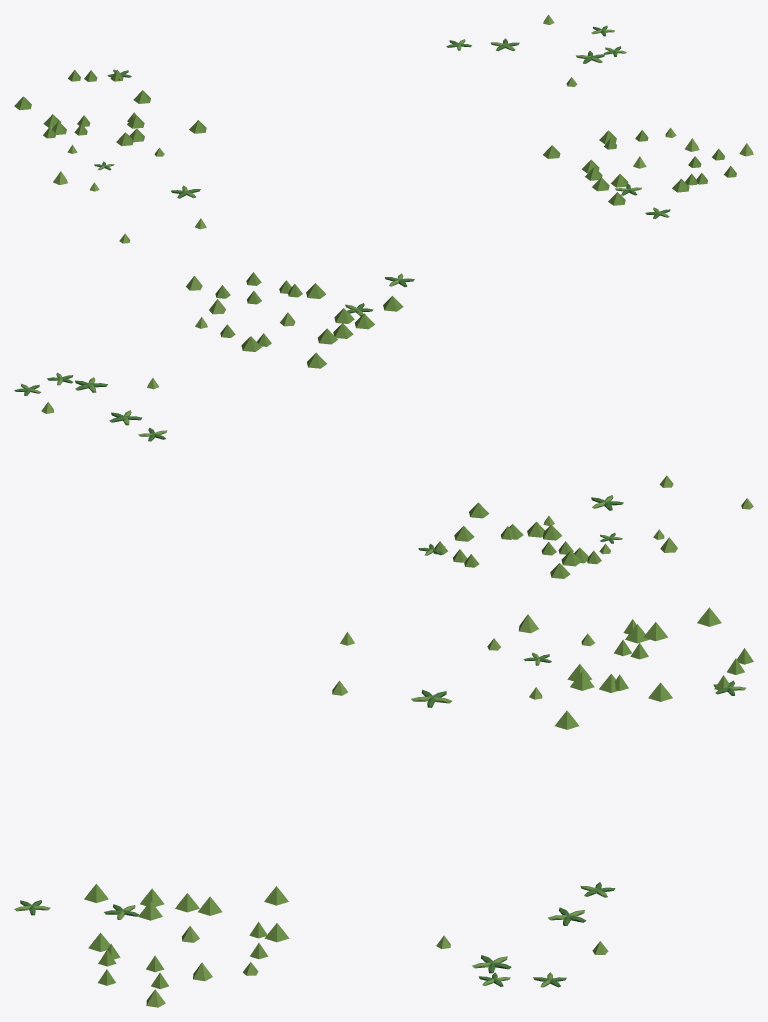
The model's file is cliff_overlook_gate_nonsolid_props.fbx.
3 views of the same model, one above another, from view 1: azimuth 30°, elevation 25°; view 2: azimuth 150°, elevation 25°; view 3: azimuth 270°, elevation 25° (orthographic). The views are drawn at different scales.
Parts seen in each view (by area): view 1: chunk_cliff_overlook_gate__PropsNonSolid; view 2: chunk_cliff_overlook_gate__PropsNonSolid; view 3: chunk_cliff_overlook_gate__PropsNonSolid.
Part boxes in pixels (<box>): chunk_cliff_overlook_gate__PropsNonSolid: <box>14,14,753,243</box>; chunk_cliff_overlook_gate__PropsNonSolid: <box>14,272,753,578</box>; chunk_cliff_overlook_gate__PropsNonSolid: <box>14,607,753,1007</box>.
Bounding box in the file's own units: 190 × 13.9 × 157.
